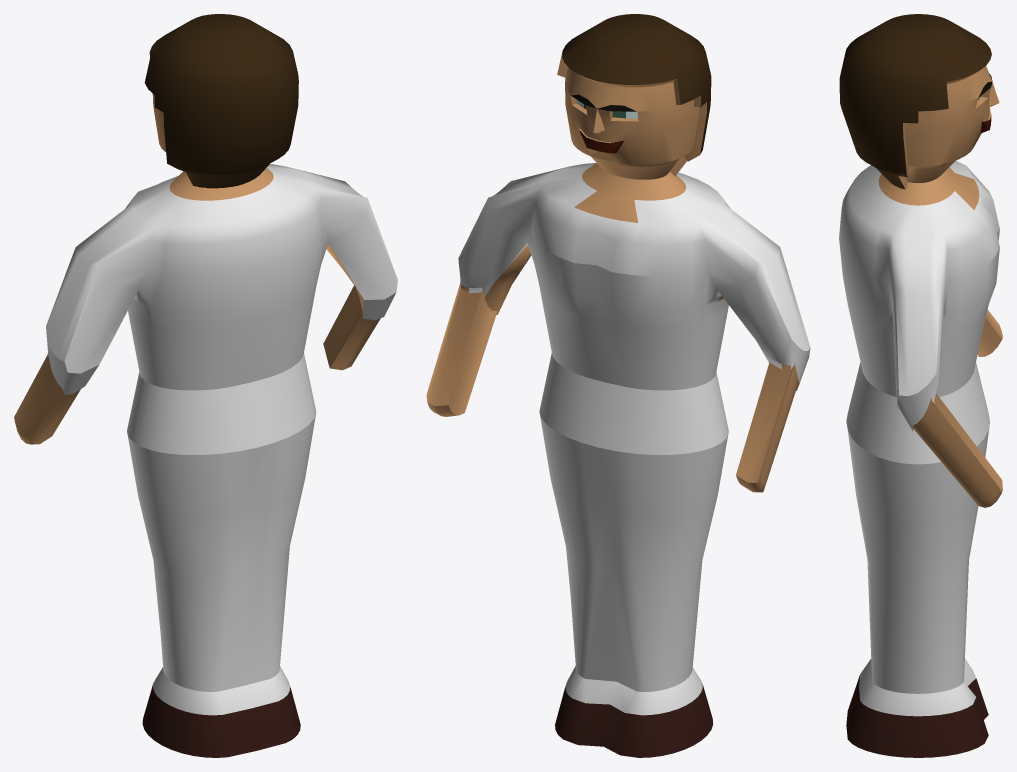
The model's file is PedMan.fbx.
3 views of the same model, side by side, from view 1: azimuth 30°, elevation 25°; view 2: azimuth 150°, elevation 25°; view 3: azimuth 270°, elevation 25° (orthographic).
Parts seen in each view (by area): view 1: PedMan; view 2: PedMan; view 3: PedMan.
Part boxes in pixels (x1,y1,x2,y2): PedMan: [14, 14, 397, 757]; PedMan: [426, 14, 810, 757]; PedMan: [839, 14, 1002, 757].
Bounding box in the file's own units: 0.7455 × 0.3112 × 1.46.
